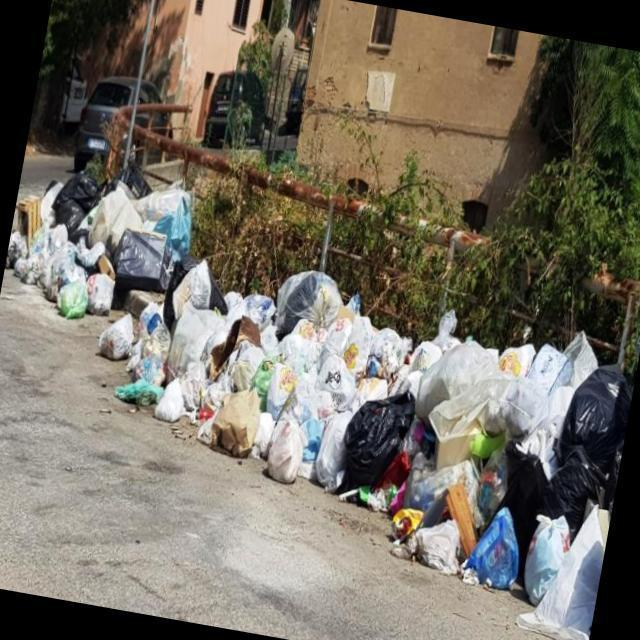garbage: (323, 288, 640, 640), (133, 246, 382, 514), (0, 134, 199, 334), (86, 288, 180, 414)
